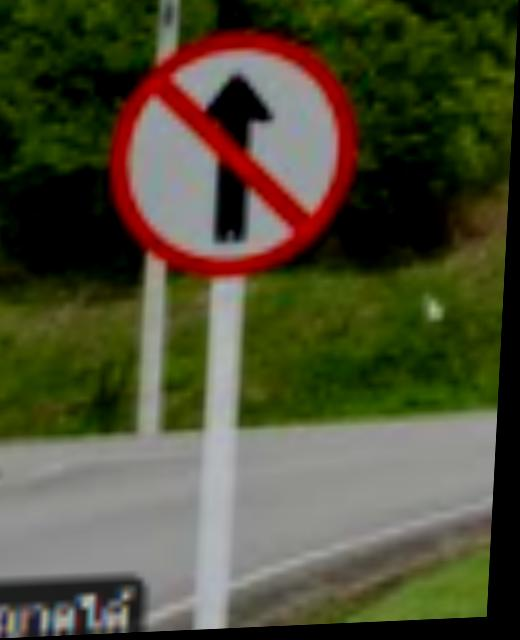not_go_straight: (90, 17, 373, 294)
